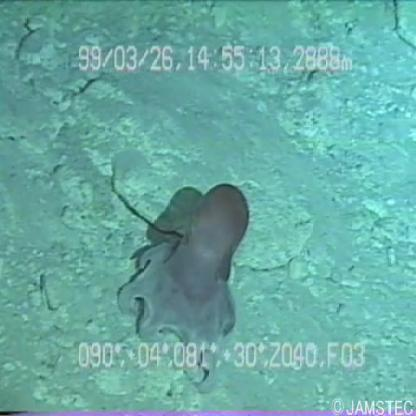Bio: (113, 180, 252, 398)
